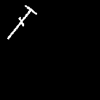double_crochet: (7, 6, 36, 38)
